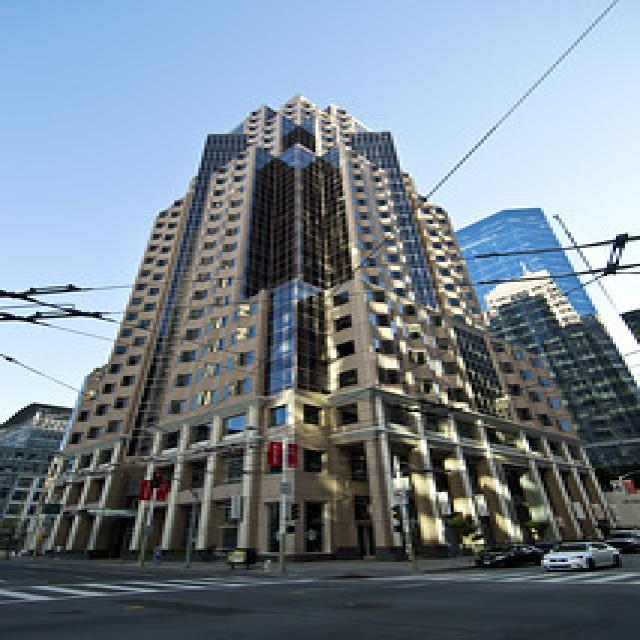Normal_building: (63, 90, 601, 570)
